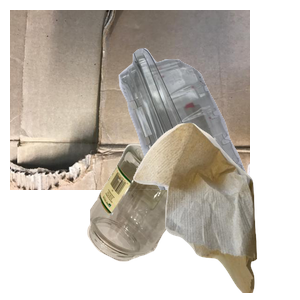cardboard: (10, 10, 250, 190)
glass: (85, 141, 275, 300)
plastic: (71, 45, 300, 225)
trash: (131, 120, 300, 300)
